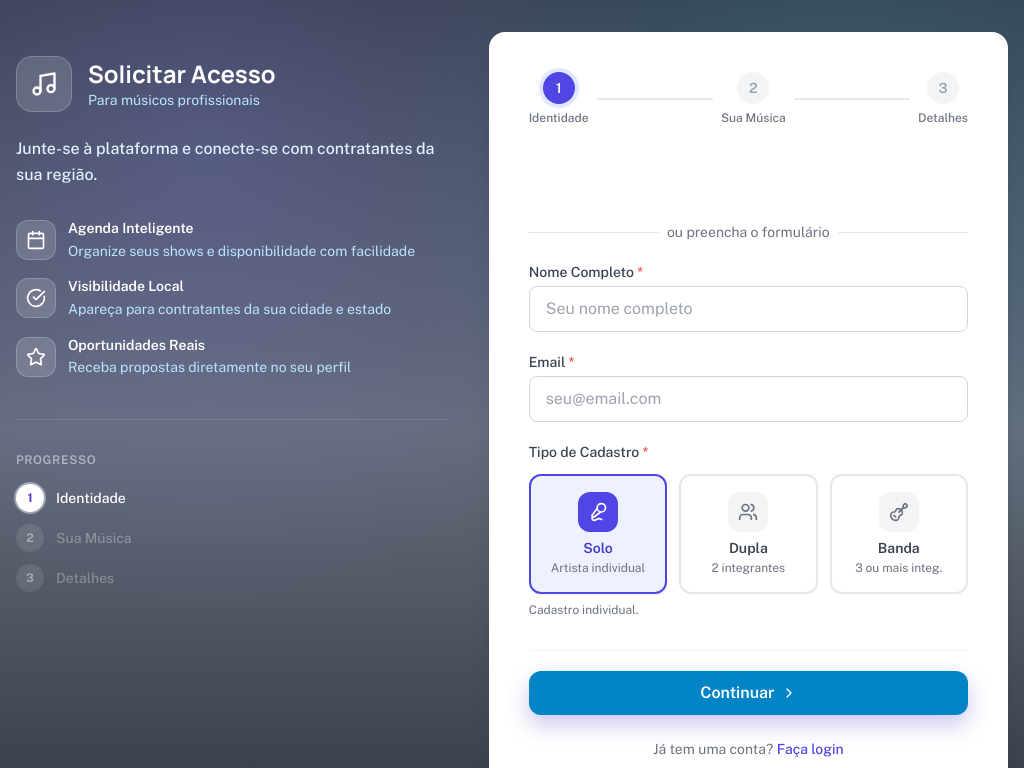
Test: MusicianRequest Page — Wizard › step 3 (solo) shows cidade and estado fields
Type "João Silva" into the field with placeholder "Seu nome completo".
click(748, 309); type("João Silva")  # box [529,286,968,332]
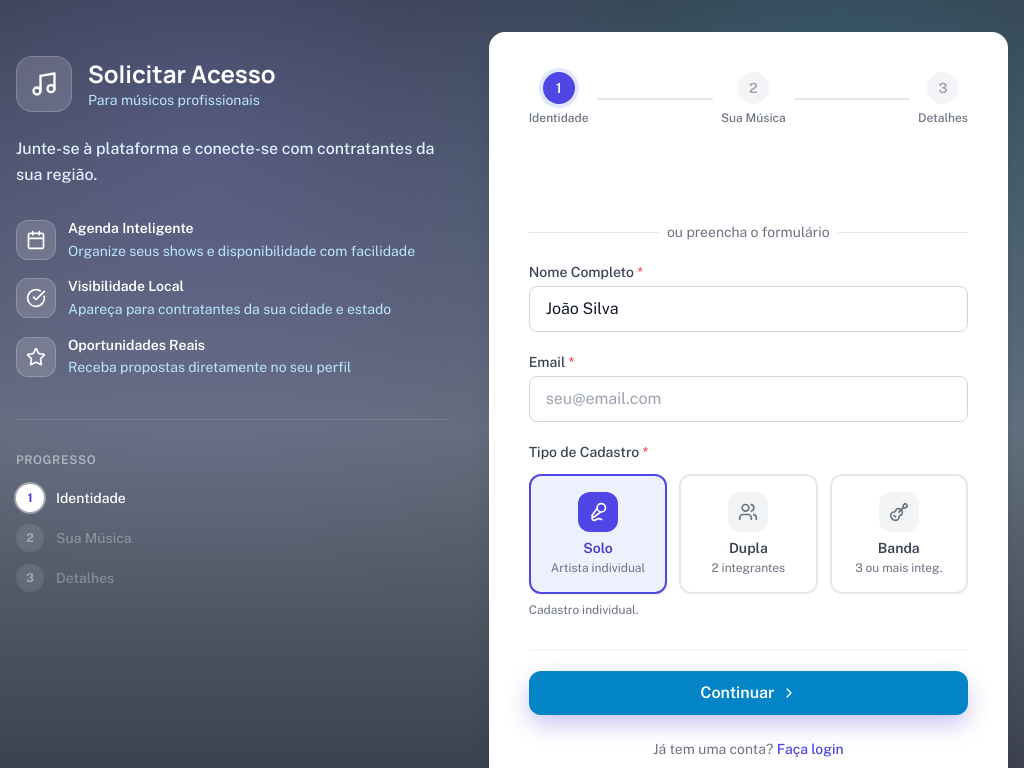
Type "joao@teste.com" into the field with placeholder "seu@email.com".
click(748, 399); type("joao@teste.com")  # box [529,376,968,422]
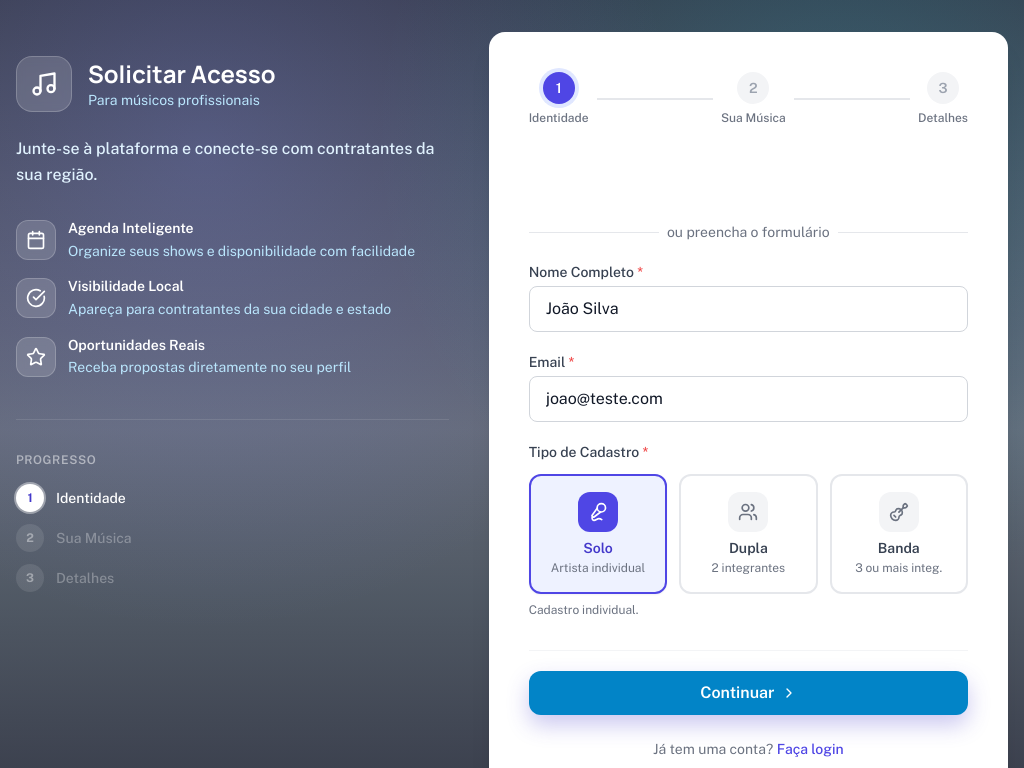
Click the button "Continuar".
click(748, 692)  # box [529,670,968,714]
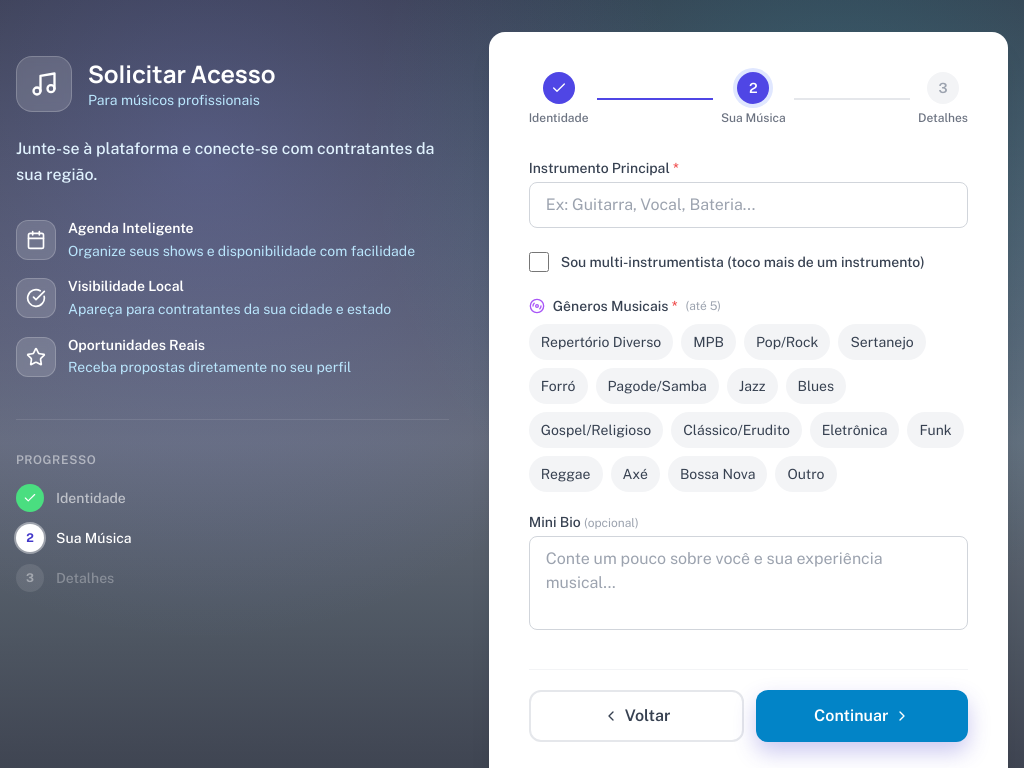
Now the field with placeholder "Ex: Guitarra, Vocal, Bateria..." is shown
Type "Guitarra" into the field with placeholder "Ex: Guitarra, Vocal, Bateria...".
click(748, 205); type("Guitarra")  # box [529,182,968,228]
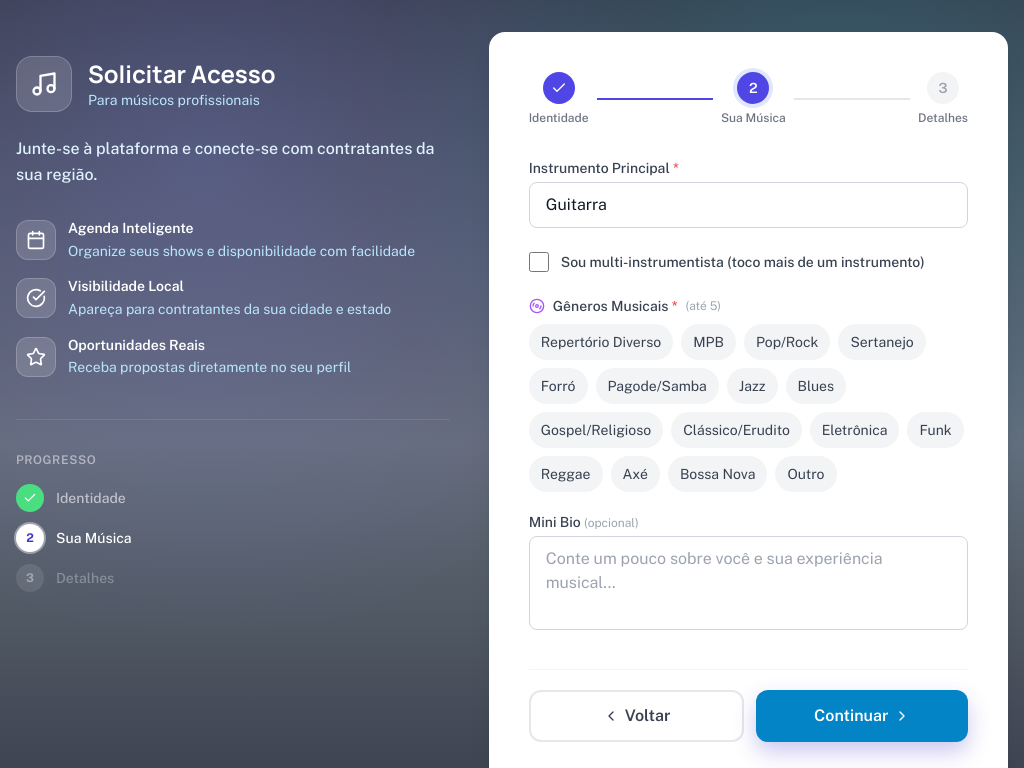
Click the button "Repertório Diverso".
click(601, 342)  # box [529,324,673,360]
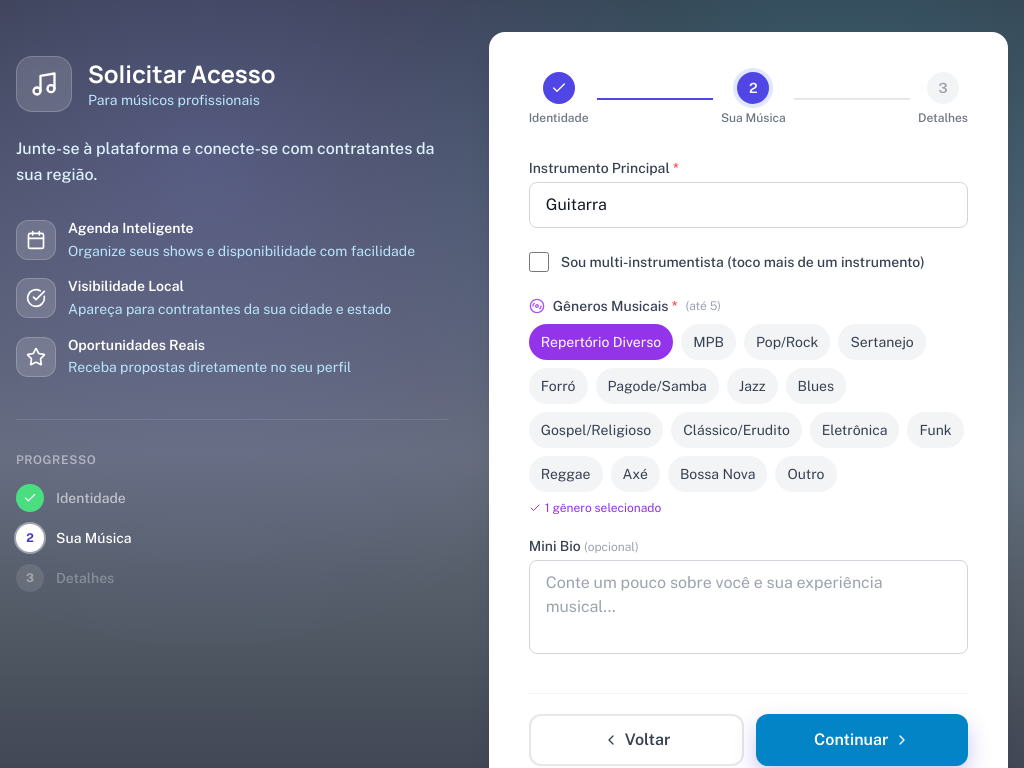
Click the button "Continuar".
click(862, 740)  # box [756,714,968,766]
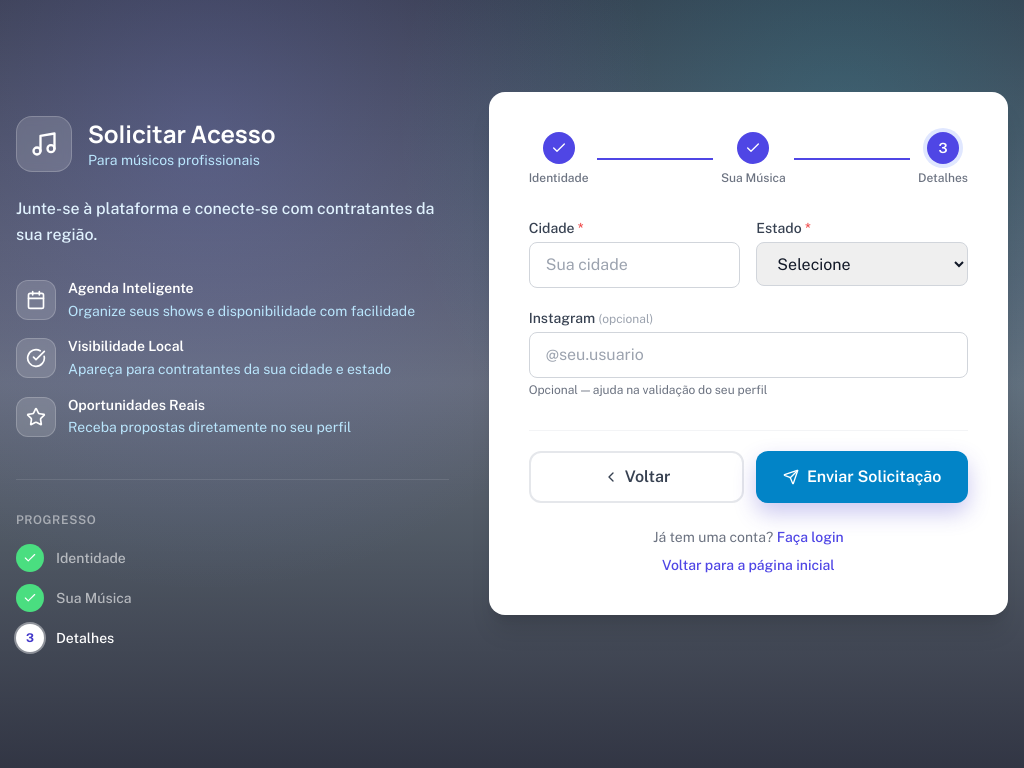
Now the field with placeholder "Sua cidade" is shown, box [529,242,740,288]
